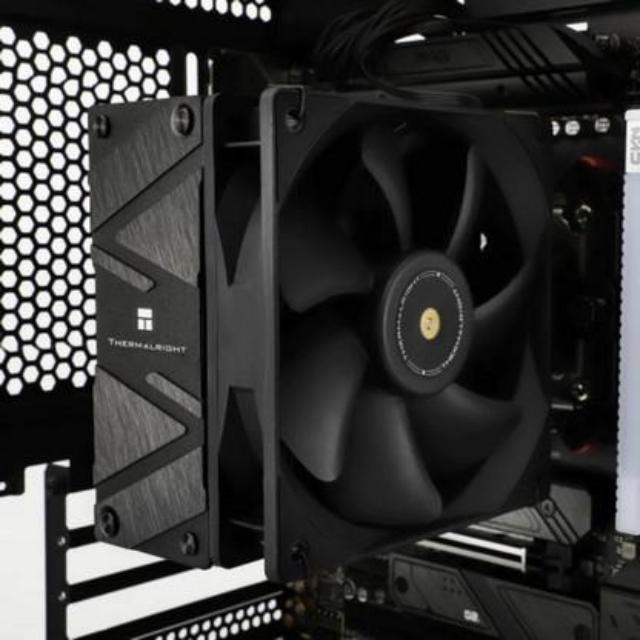CPU_Fan: (96, 86, 559, 552)
